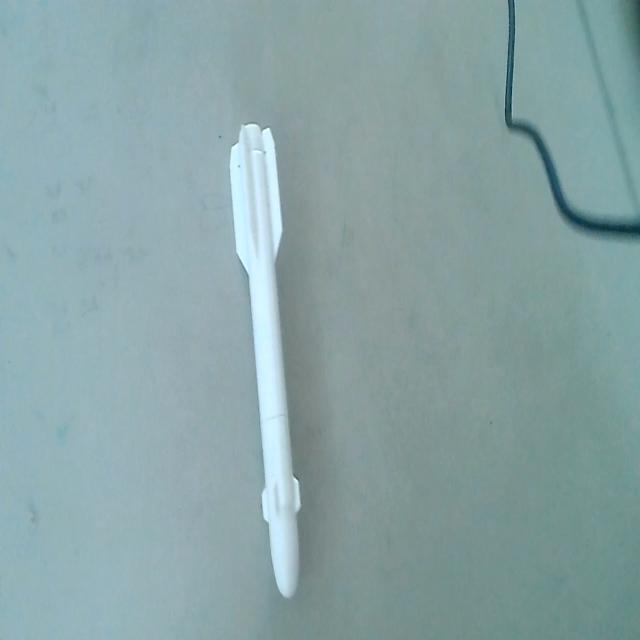Rocket: (227, 121, 305, 601)
